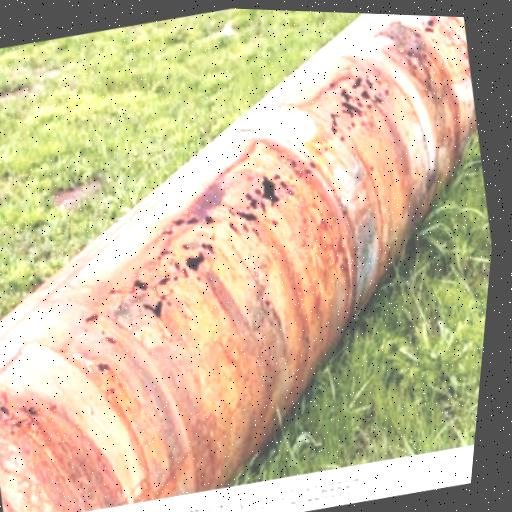corrosion: (0, 13, 476, 512)
